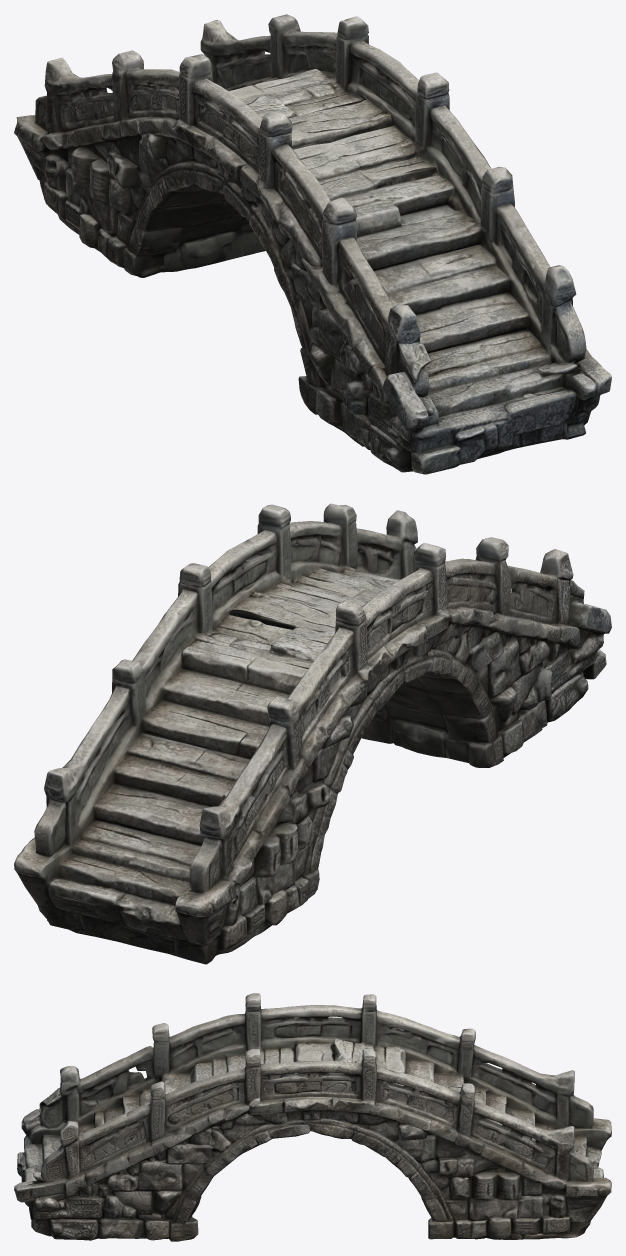
The model's file is bridge-high.glb.
3 views of the same model, one above another, from view 1: azimuth 30°, elevation 25°; view 2: azimuth 150°, elevation 25°; view 3: azimuth 270°, elevation 25° (orthographic). The views are drawn at different scales.
Size of the model in its own units: 0.3 by 0.3415 by 0.9987.
1 material, 1 textured.
